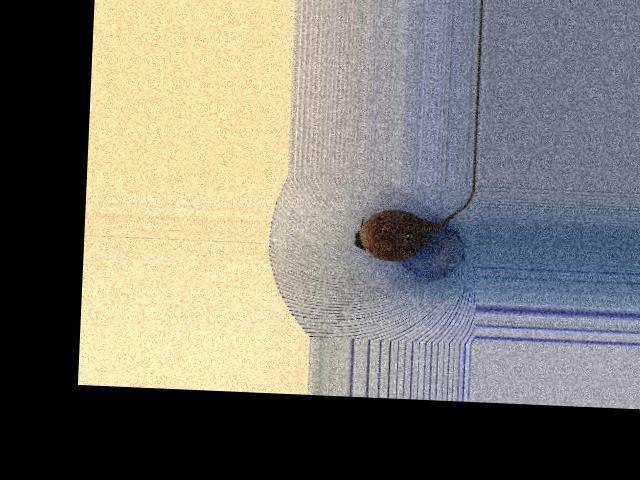beet: (352, 179, 474, 264)
